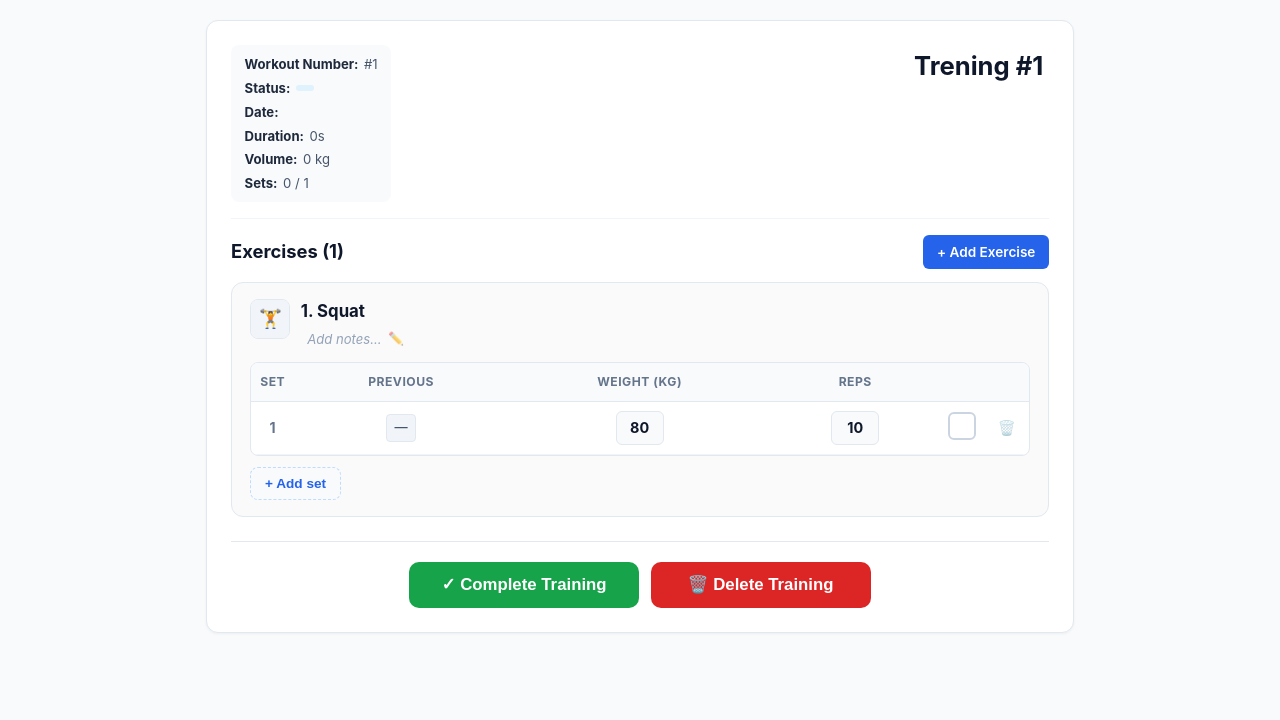
Test: WorkoutDetailComponent › should delete set when confirmed in popup
Click the button with class "btn-delete-set". click: point(1007, 428)
box: [994,417,1020,439]
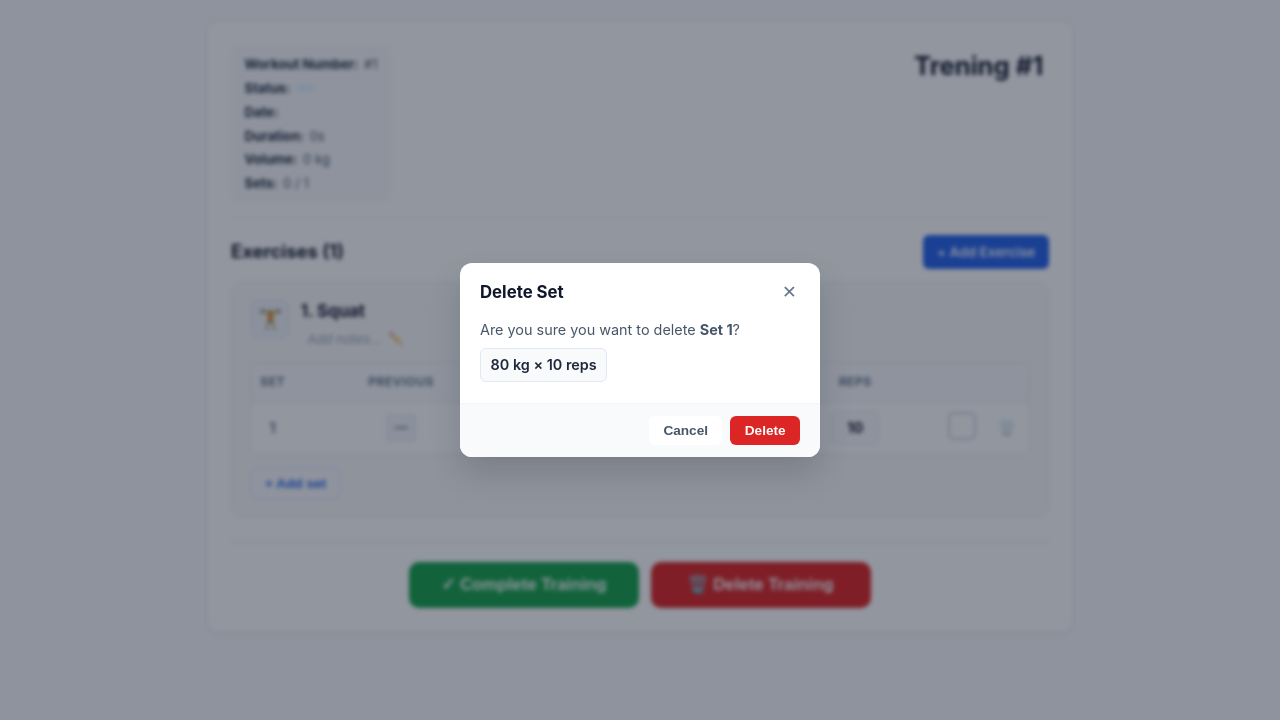
Click the button with class "btn-modal-delete". click: point(765, 431)
box: [730,416,800,446]
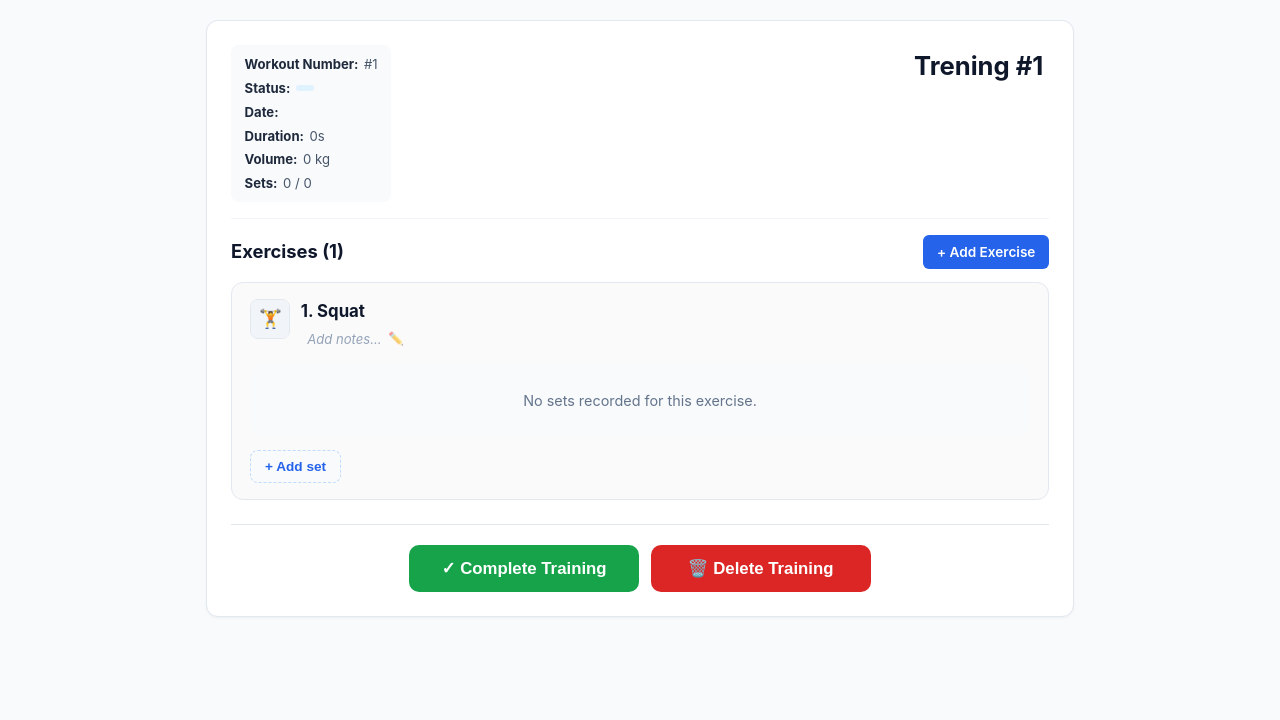
Check: the element with class "modal-dialog" is gone
